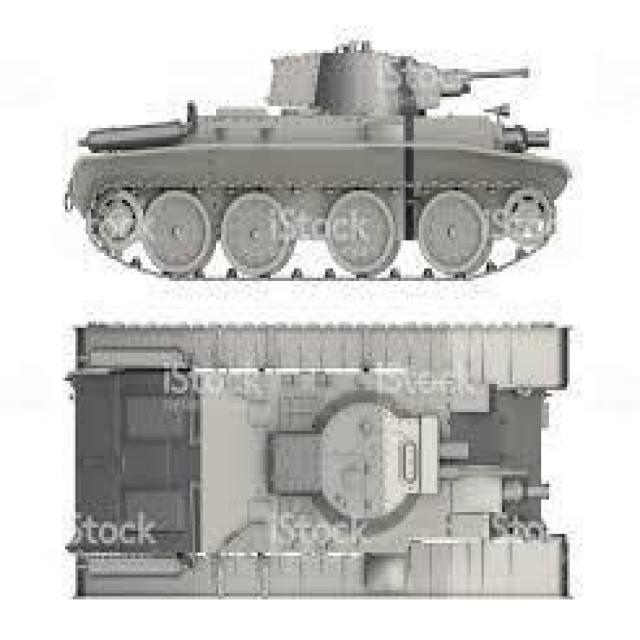Tanks: (69, 303, 571, 612), (65, 42, 570, 283)
